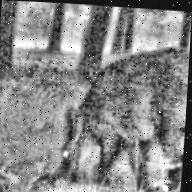boar: (51, 30, 190, 192)
